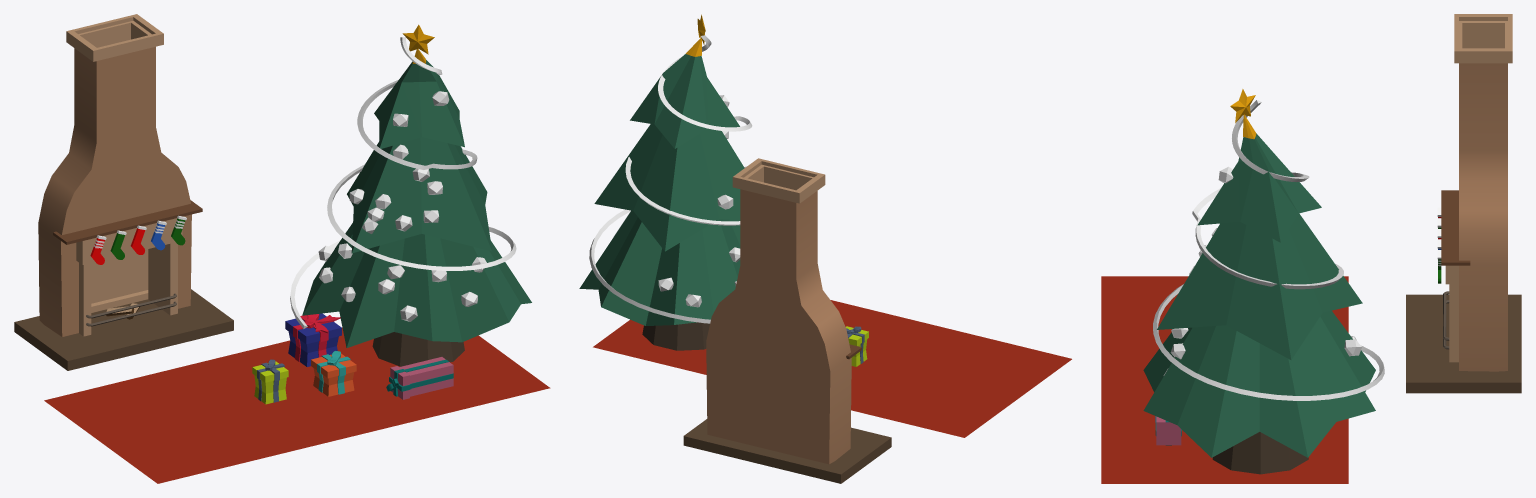
File: Ch3_ChristmasRoom_Fbx_Ver01.FBX
3 views of the same model, side by side, from view 1: azimuth 30°, elevation 25°; view 2: azimuth 150°, elevation 25°; view 3: azimuth 270°, elevation 25° (orthographic). The views are drawn at different scales.
Visible parts, largest first — view 1: Fireplace, Tree, Carpet, Helix001, Gift01, Gift04, Gift02, Gift03; view 2: Fireplace, Tree, Carpet, Helix001, Gift03; view 3: Tree, Fireplace, Carpet, Helix001, Gift04.
Part boxes in pixels (box(x1,y1,x2,y2)): Fireplace: box(14, 14, 233, 370); Tree: box(302, 24, 531, 366); Carpet: box(44, 327, 550, 483); Helix001: box(290, 37, 516, 328); Gift01: box(285, 313, 341, 366); Gift04: box(386, 357, 453, 399); Gift02: box(311, 351, 356, 396); Gift03: box(252, 359, 288, 404); Fireplace: box(683, 158, 891, 483); Tree: box(579, 14, 744, 350); Carpet: box(593, 300, 1071, 437); Helix001: box(589, 35, 752, 323); Gift03: box(846, 326, 868, 366); Tree: box(1143, 89, 1375, 474); Fireplace: box(1406, 14, 1521, 393); Carpet: box(1101, 276, 1348, 483); Helix001: box(1153, 100, 1384, 400); Gift04: box(1155, 416, 1181, 445).
Bounding box in the file's own units: 512 × 386 × 404.
